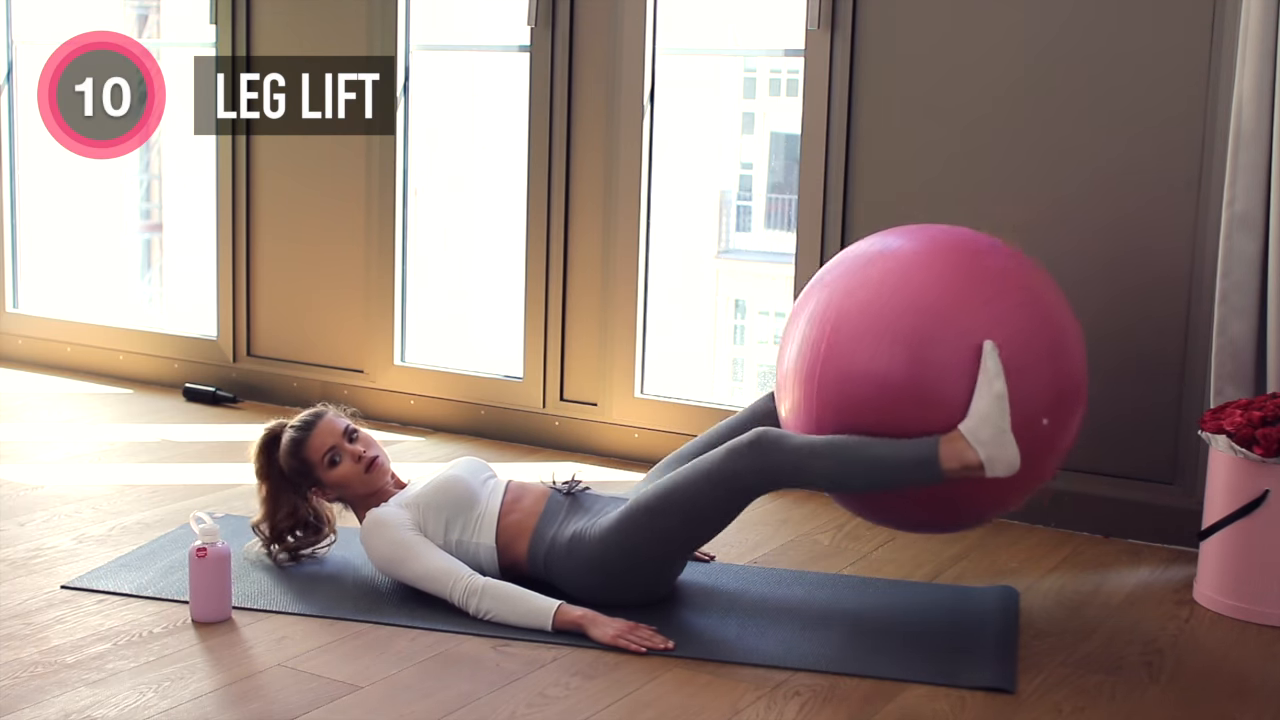yogaball: (771, 220, 1096, 539)
